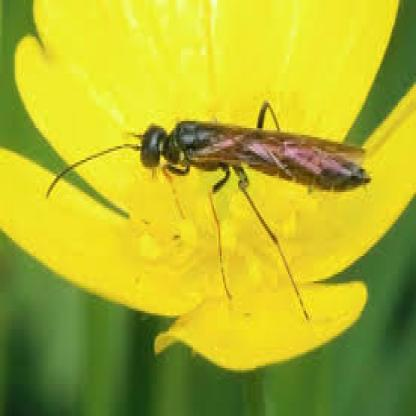sawfly: (51, 99, 372, 327)
